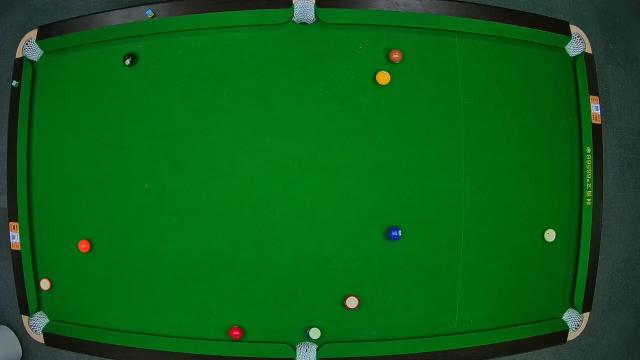bag1: (21, 40, 41, 61)
bag2: (292, 0, 318, 26)
bag3: (564, 33, 588, 57)
bag4: (27, 312, 47, 332)
bag5: (294, 340, 320, 360)
bag6: (563, 308, 583, 332)
ball0: (544, 229, 556, 243)
ball1: (376, 70, 390, 86)
ball10: (306, 326, 322, 341)
ball11: (344, 294, 360, 310)
ball12: (40, 277, 52, 291)
ball2: (386, 226, 402, 241)
ball3: (228, 324, 244, 340)
ball5: (77, 238, 91, 254)
ball7: (388, 48, 404, 64)
ball8: (122, 52, 138, 68)
